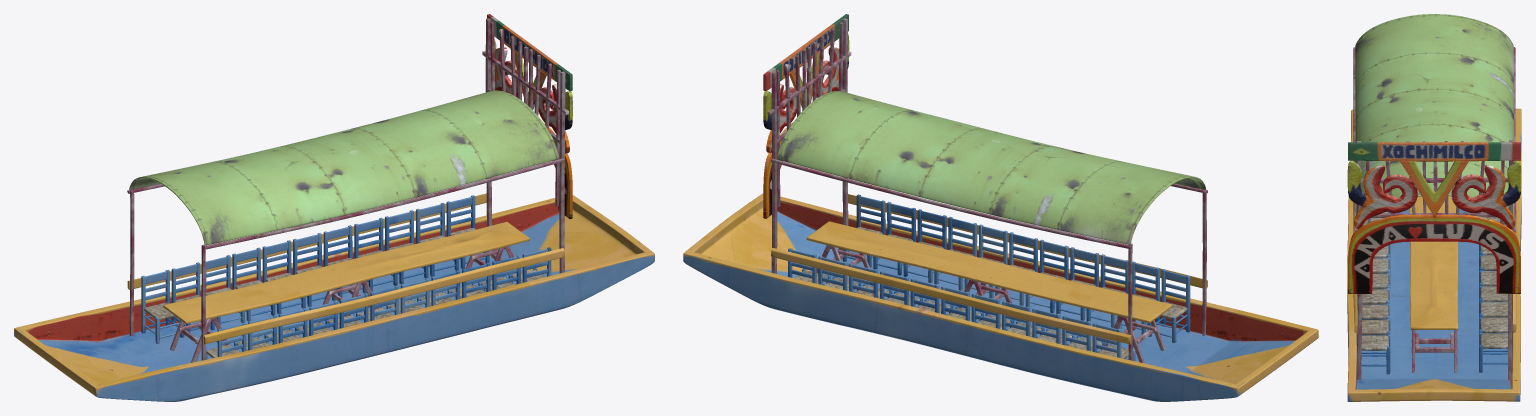
Rendered from trajineras3.obj.
The picture shows the model from 3 angles, left to right: view 1: azimuth 30°, elevation 25°; view 2: azimuth 150°, elevation 25°; view 3: azimuth 270°, elevation 25°; orthographic projection. The views are drawn at different scales.
Visible parts, largest first — view 1: Trajineral_GEO_barcaza_Decimated:defaultMat1_0.002; view 2: Trajineral_GEO_barcaza_Decimated:defaultMat1_0.002; view 3: Trajineral_GEO_barcaza_Decimated:defaultMat1_0.002.
Part boxes in pixels (x1,y1,x2,y2): Trajineral_GEO_barcaza_Decimated:defaultMat1_0.002: [14, 14, 654, 401]; Trajineral_GEO_barcaza_Decimated:defaultMat1_0.002: [683, 14, 1318, 401]; Trajineral_GEO_barcaza_Decimated:defaultMat1_0.002: [1347, 14, 1521, 401].
Size of the model in its own units: 40.54 by 16.4 by 10.52.
